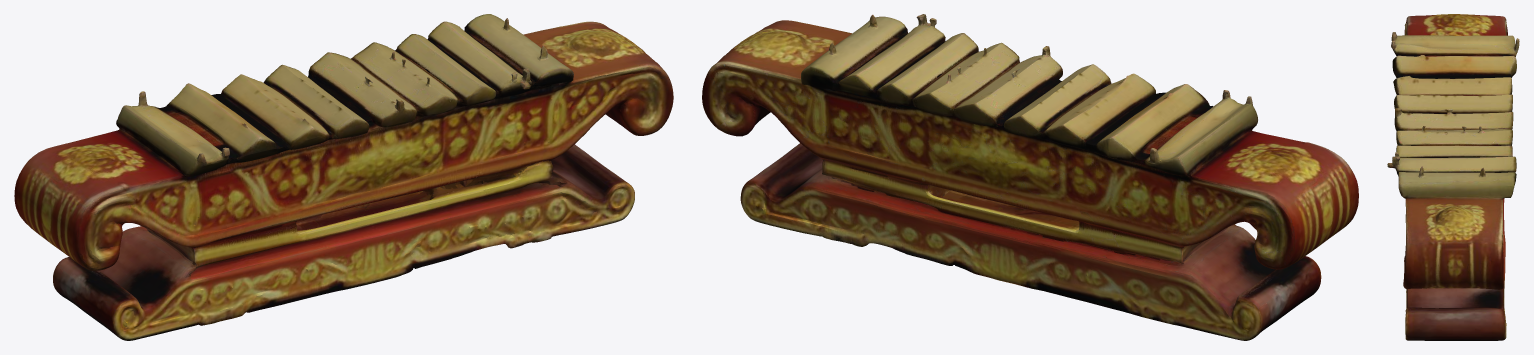
Rendered from Gamelan.glb.
The picture shows the model from 3 angles, left to right: view 1: azimuth 30°, elevation 25°; view 2: azimuth 150°, elevation 25°; view 3: azimuth 270°, elevation 25°; orthographic projection. The views are drawn at different scales.
Parts seen in each view (by area): view 1: mesh; view 2: mesh; view 3: mesh.
Part boxes in pixels (box(x1,y1,x2,y2)): mesh: box(14, 14, 673, 340); mesh: box(702, 14, 1358, 340); mesh: box(1387, 14, 1519, 340).
Bounding box in the file's own units: 1 × 0.3007 × 0.2398.
Materials: 1 (1 with a texture image).
